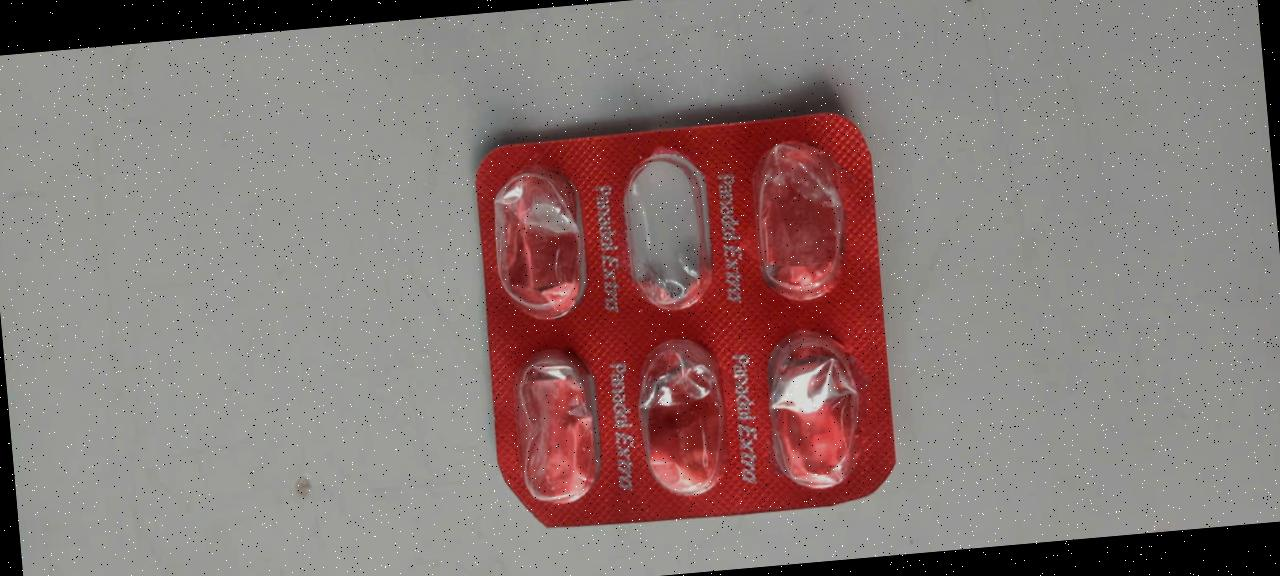Empty: (479, 154, 599, 335), (613, 146, 733, 327), (503, 339, 623, 520), (738, 133, 858, 314), (626, 329, 746, 510), (754, 321, 874, 502)
